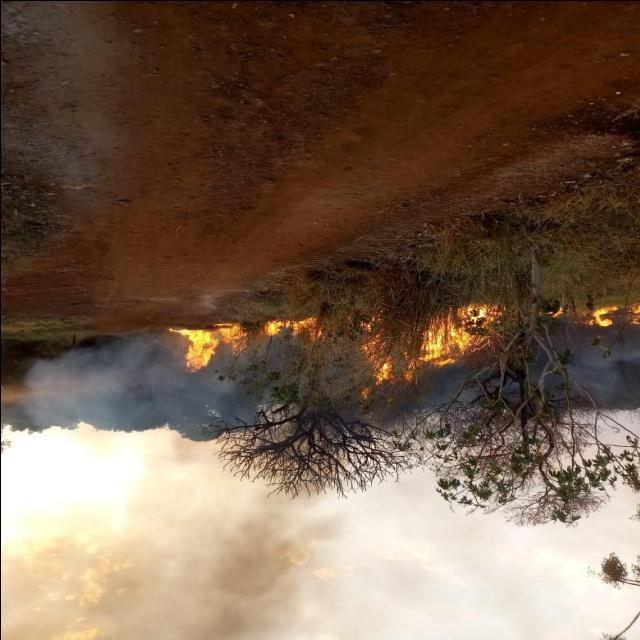Fire: (360, 305, 500, 387), (180, 320, 246, 370), (262, 317, 324, 341), (580, 304, 616, 326)
